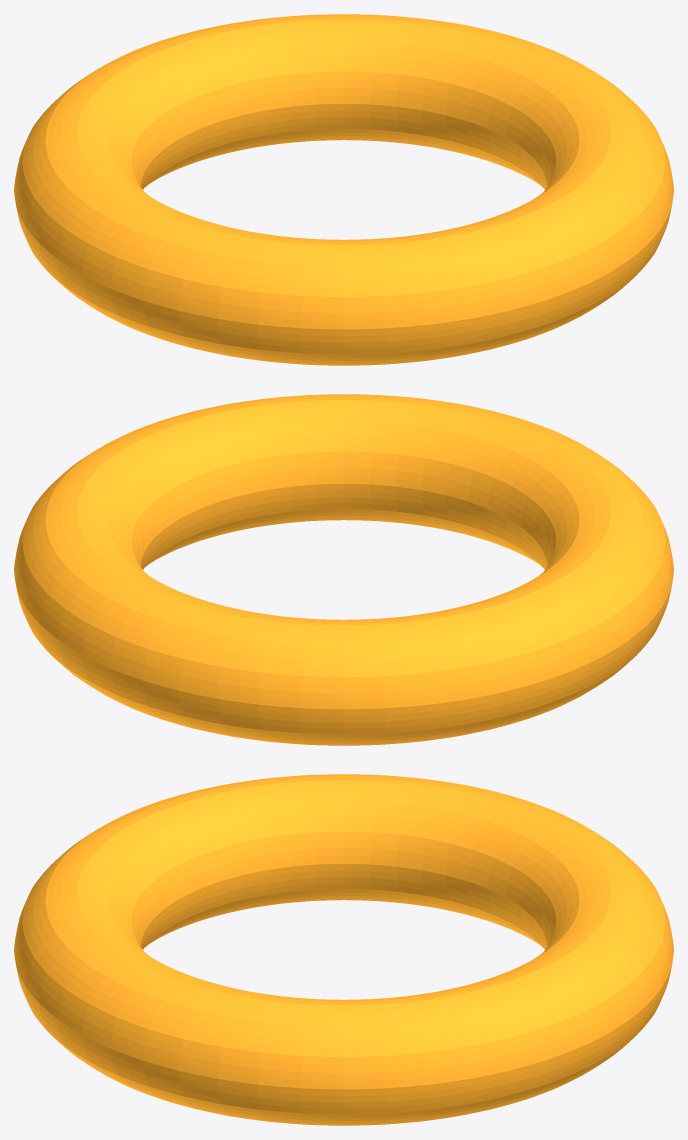
The model's file is donut.glb.
The picture shows the model from 3 angles, top to bottom: view 1: azimuth 30°, elevation 25°; view 2: azimuth 150°, elevation 25°; view 3: azimuth 270°, elevation 25°; orthographic projection.
Visible parts, largest first — view 1: Torus; view 2: Torus; view 3: Torus.
Part boxes in pixels (x1,y1,x2,y2): Torus: (14, 14, 673, 365); Torus: (14, 394, 673, 745); Torus: (14, 774, 673, 1125).
Size of the model in its own units: 0.4926 by 0.0944 by 0.4926.
